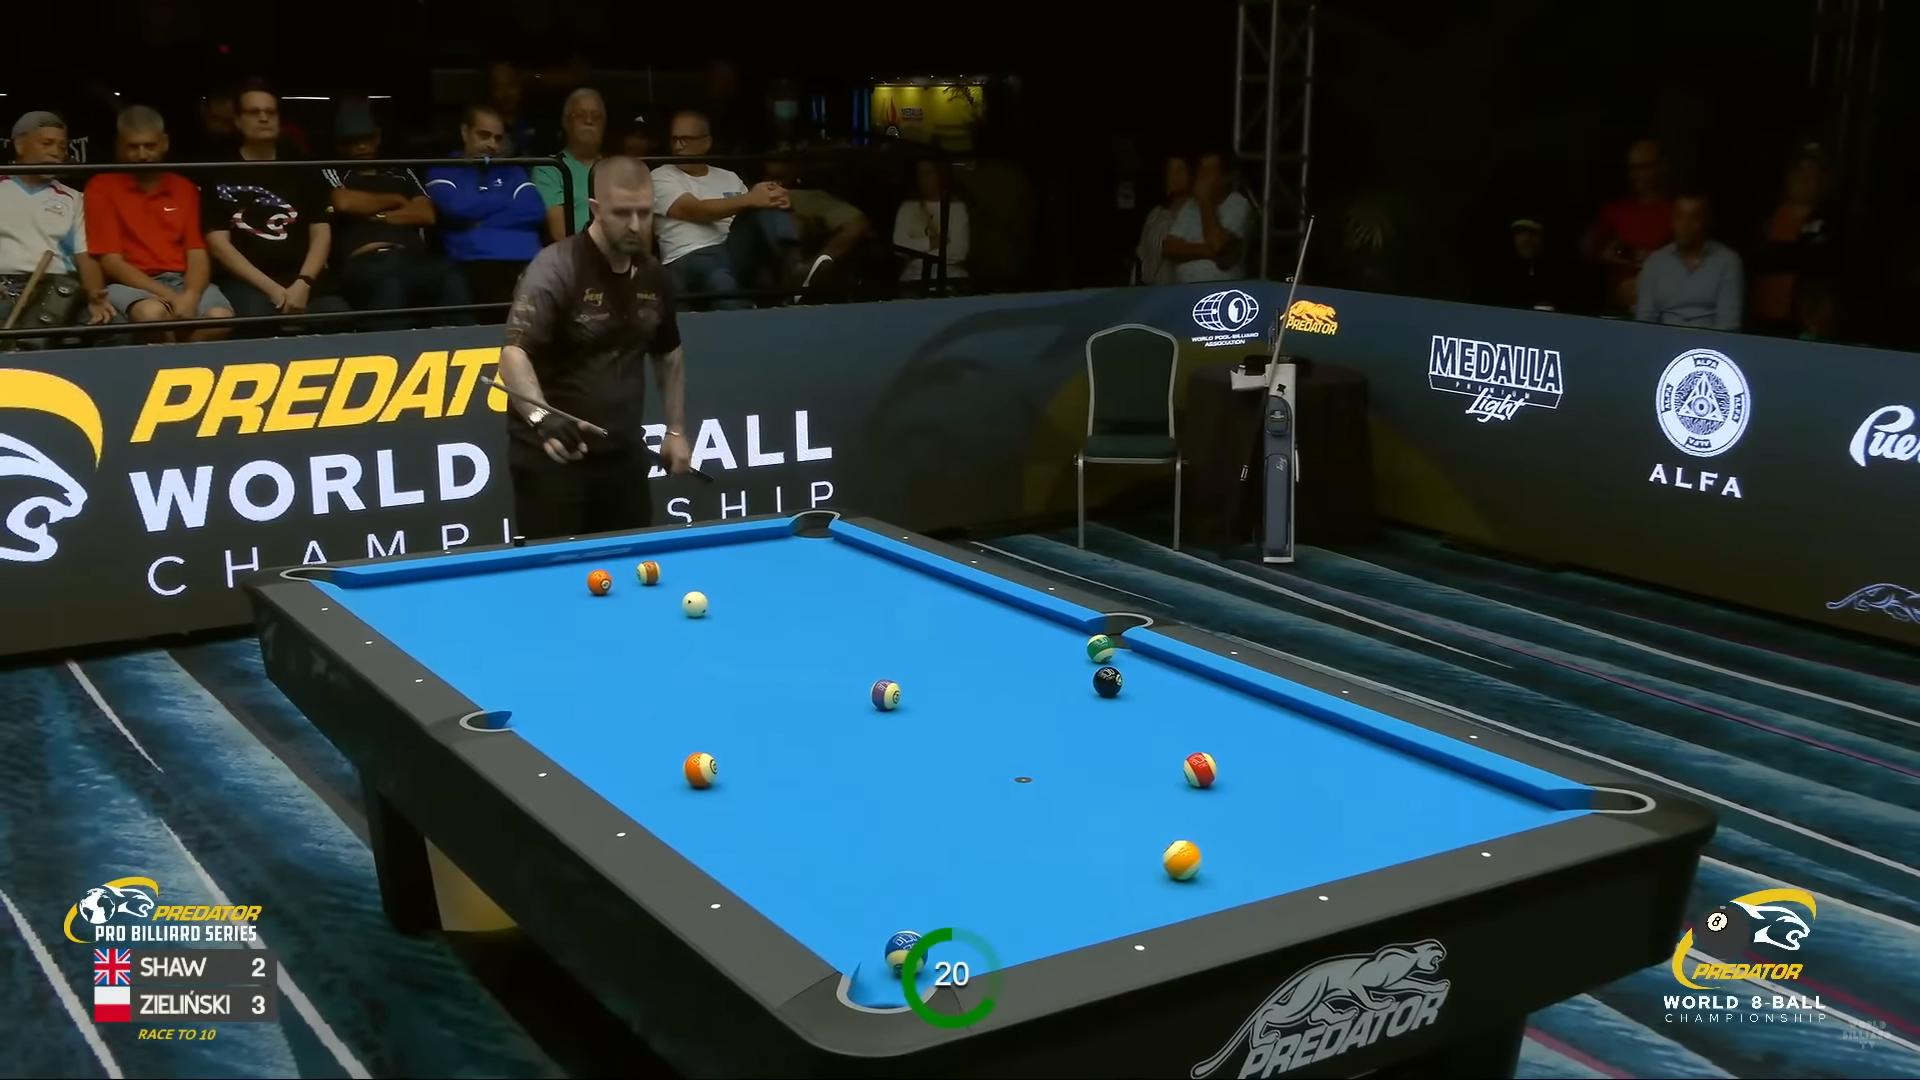Black: (1092, 667, 1122, 698)
Cue: (682, 591, 708, 617)
Dot: (531, 767, 554, 782), (357, 636, 380, 650), (560, 531, 583, 546), (678, 518, 700, 533), (1040, 582, 1063, 596), (1224, 646, 1246, 661), (1335, 684, 1357, 699), (1129, 940, 1150, 955), (407, 674, 430, 687), (314, 603, 336, 616), (436, 546, 459, 559), (963, 555, 985, 568), (1462, 731, 1485, 744), (1312, 891, 1335, 905), (705, 899, 727, 913), (611, 828, 632, 841), (895, 531, 916, 545), (1476, 848, 1497, 861)
Solid: (587, 570, 612, 595)
Striped: (884, 931, 928, 977), (1162, 839, 1201, 881), (1183, 752, 1217, 787), (683, 753, 717, 789), (870, 679, 901, 709), (1087, 634, 1114, 663), (636, 560, 659, 585)
